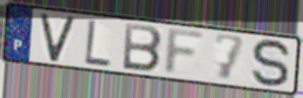7: (212, 32, 247, 84)
B: (121, 21, 165, 74)
F: (161, 26, 209, 78)
L: (83, 17, 112, 69)
S: (250, 38, 293, 90)
V: (39, 12, 78, 64)
